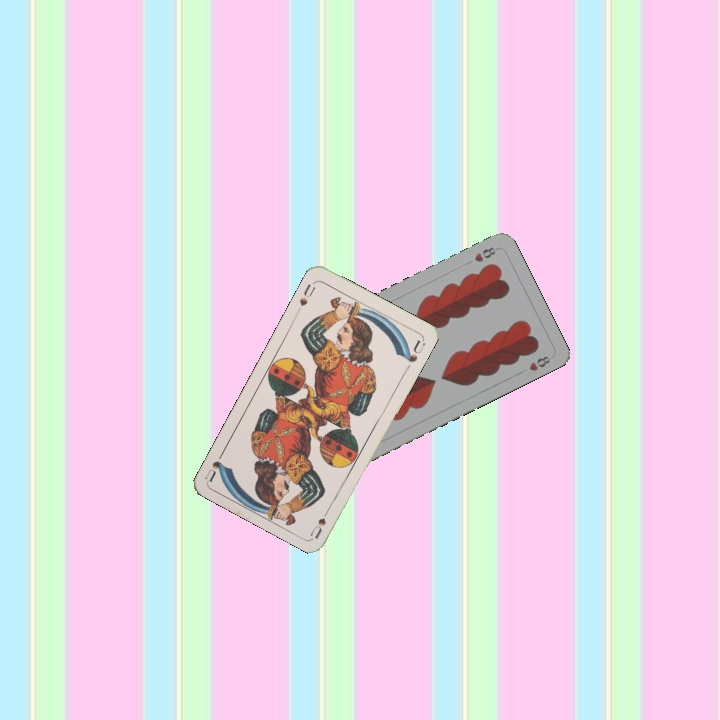H8: (470, 243, 501, 265)
SU: (307, 501, 334, 540), (293, 278, 318, 315)
